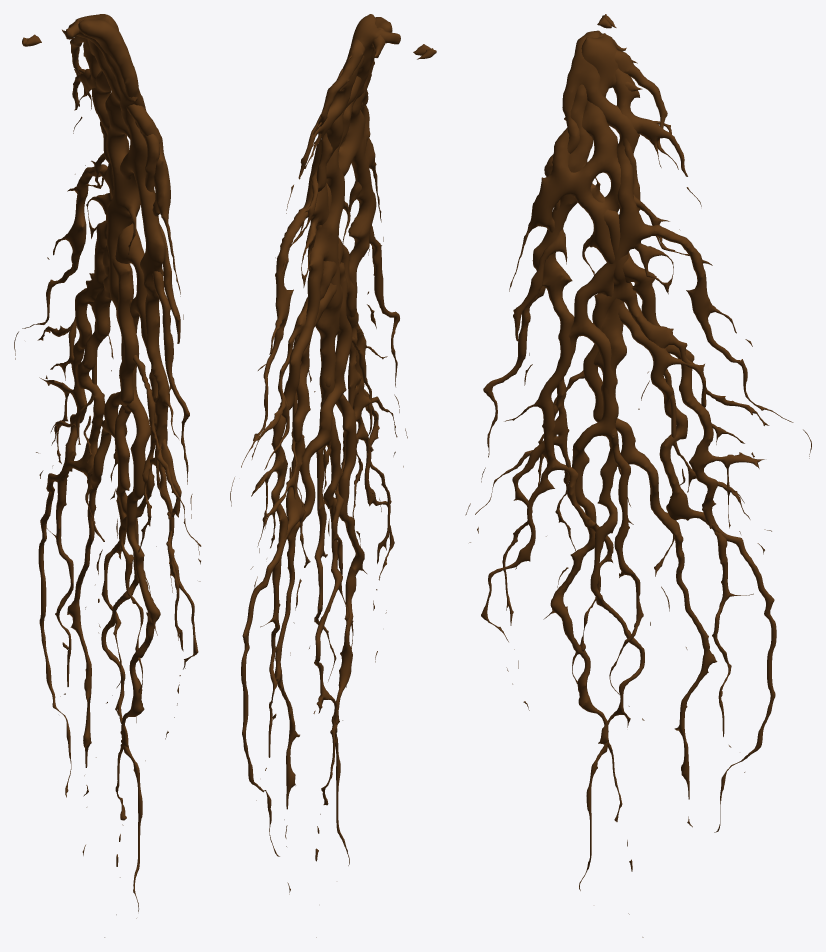
The model's file is hangingvines.fbx.
The picture shows the model from 3 angles, left to right: view 1: azimuth 30°, elevation 25°; view 2: azimuth 150°, elevation 25°; view 3: azimuth 270°, elevation 25°; orthographic projection. The views are drawn at different scales.
Visible parts, largest first — view 1: HangingVine.002, HangingVine.001, HangingVine; view 2: HangingVine.002, HangingVine.001, HangingVine; view 3: HangingVine.001, HangingVine.002, HangingVine.
Boxes of the visible parts, bbox=[...] form: HangingVine.002: bbox=[36, 14, 199, 918]; HangingVine.001: bbox=[14, 19, 185, 937]; HangingVine: bbox=[22, 19, 201, 855]; HangingVine.002: bbox=[250, 14, 407, 865]; HangingVine.001: bbox=[230, 17, 430, 937]; HangingVine: bbox=[252, 27, 436, 894]; HangingVine.001: bbox=[502, 17, 811, 937]; HangingVine.002: bbox=[465, 30, 771, 890]; HangingVine: bbox=[469, 14, 769, 827].
Bounding box in the file's own units: 128 × 979 × 346.
